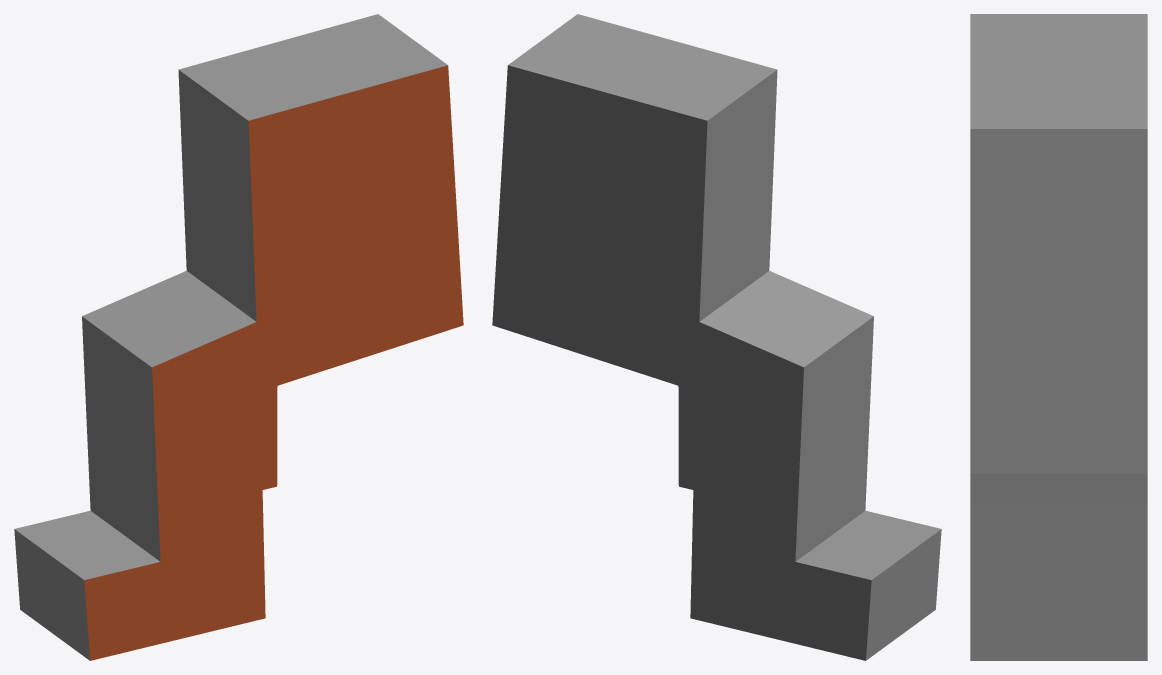
File: construction_6976_assumed_A_Casa_h6m.obj
3 renders of one model, left to right at view 1: azimuth 30°, elevation 25°; view 2: azimuth 150°, elevation 25°; view 3: azimuth 270°, elevation 25°, orthographic. The views are drawn at different scales.
Parts seen in each view (by area): view 1: construction_6976_assumed_A_Casa; view 2: construction_6976_assumed_A_Casa; view 3: construction_6976_assumed_A_Casa.
Part boxes in pixels (<box>): construction_6976_assumed_A_Casa: <box>14,14,463,660</box>; construction_6976_assumed_A_Casa: <box>492,14,941,660</box>; construction_6976_assumed_A_Casa: <box>970,14,1147,660</box>.
Size of the model in its own units: 18.77 by 24.05 by 6.
